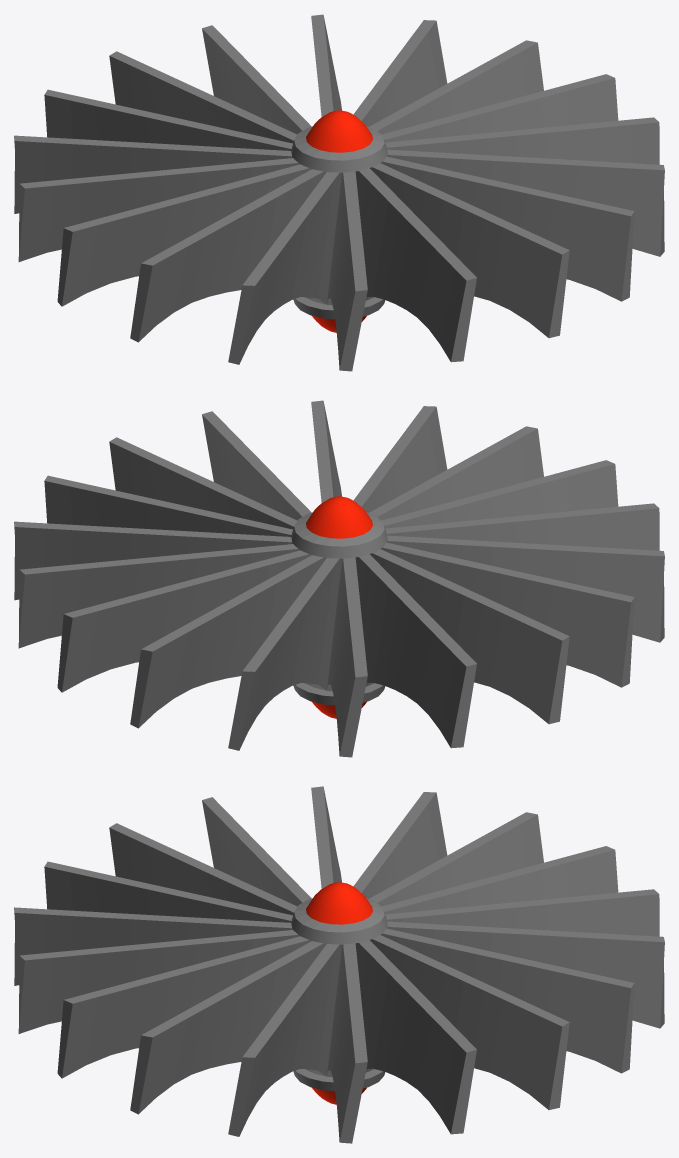
File: S_assete_fan_elect.fbx
The picture shows the model from 3 angles, top to bottom: view 1: azimuth 30°, elevation 25°; view 2: azimuth 150°, elevation 25°; view 3: azimuth 270°, elevation 25°; orthographic projection.
Visible parts, largest first — view 1: Object001; view 2: Object001; view 3: Object001.
Boxes of the visible parts, x1=… form: Object001: x1=14, y1=14, x2=664, y2=371; Object001: x1=14, y1=400, x2=664, y2=757; Object001: x1=14, y1=786, x2=664, y2=1143.
Size of the model in its own units: 353 by 131 by 351.
